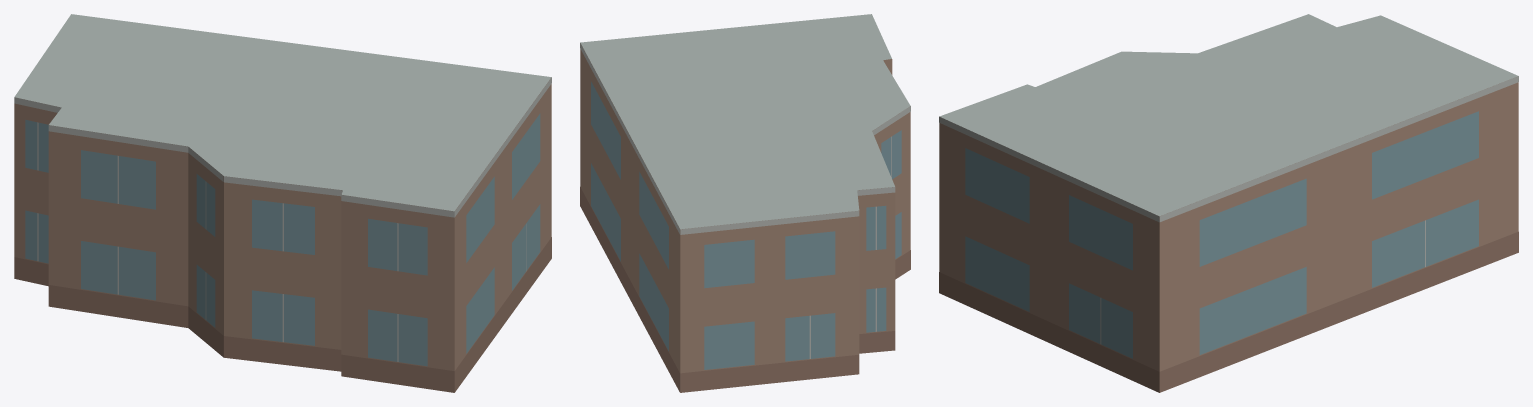
Rendered from survey-upis-33015664.glb.
3 views of the same model, side by side, from view 1: azimuth 30°, elevation 25°; view 2: azimuth 150°, elevation 25°; view 3: azimuth 270°, elevation 25° (orthographic). The views are drawn at different scales.
Parts seen in each view (by area): view 1: survey-upis-33015664.tmp; view 2: survey-upis-33015664.tmp; view 3: survey-upis-33015664.tmp.
Part boxes in pixels (x1=…): survey-upis-33015664.tmp: x1=14, y1=14, x2=551, y2=392; survey-upis-33015664.tmp: x1=580, y1=14, x2=910, y2=392; survey-upis-33015664.tmp: x1=939, y1=14, x2=1518, y2=392.
Size of the model in its own units: 17.34 by 7.05 by 20.98.
